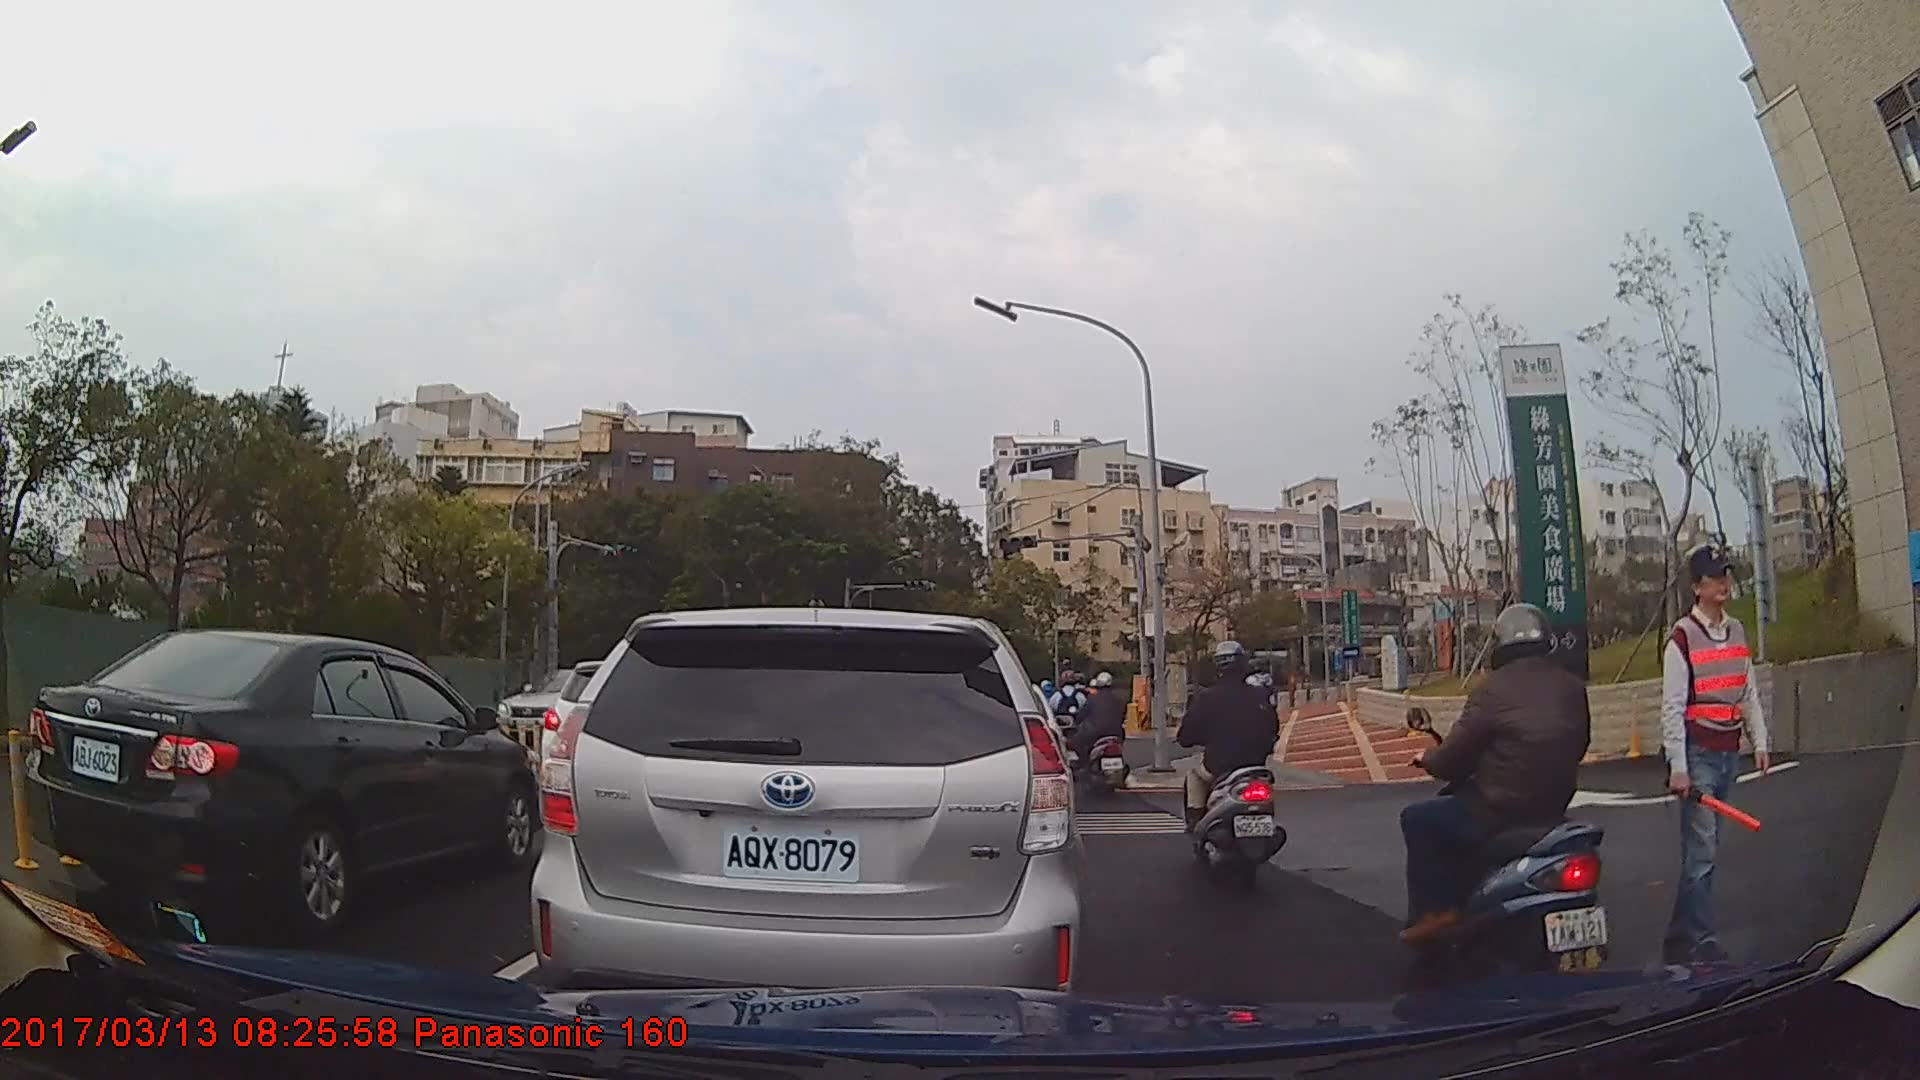pedestrian: (1655, 544, 1775, 966)
rider: (1395, 600, 1620, 1012), (1175, 638, 1289, 902), (1081, 669, 1133, 805)
vehicle: (532, 605, 1080, 1022), (26, 627, 541, 936)
